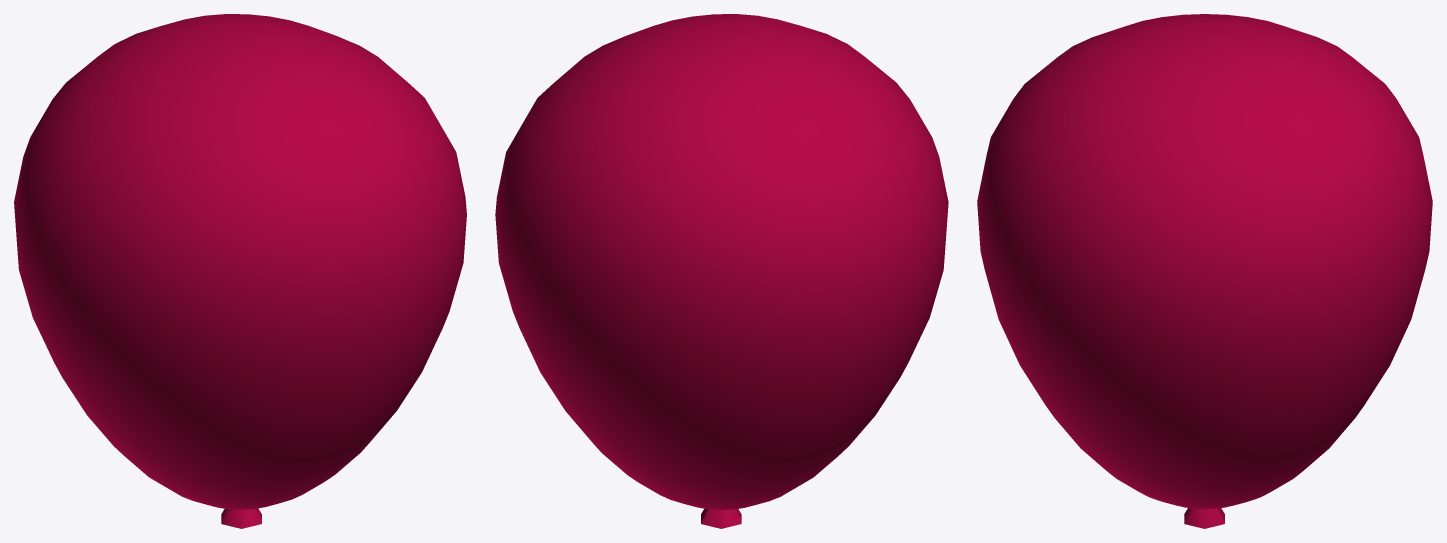
File: balloonmagenta.FBX
3 views of the same model, side by side, from view 1: azimuth 30°, elevation 25°; view 2: azimuth 150°, elevation 25°; view 3: azimuth 270°, elevation 25° (orthographic).
Parts seen in each view (by area): view 1: Sphere001; view 2: Sphere001; view 3: Sphere001.
Part boxes in pixels (x1,y1,x2,y2): Sphere001: [14, 14, 466, 528]; Sphere001: [495, 14, 948, 528]; Sphere001: [977, 14, 1432, 528].
Bounding box in the file's own units: 9.53 × 11.06 × 9.53.
